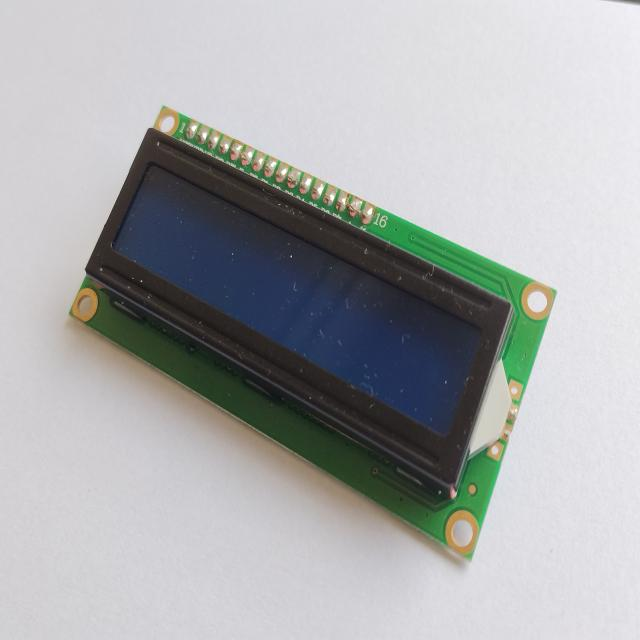lcd: (68, 104, 558, 564)
